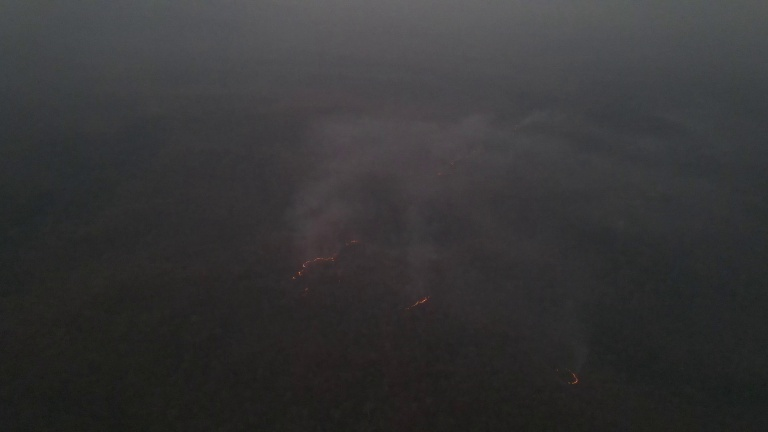fire: (292, 253, 339, 293), (402, 292, 437, 311), (567, 370, 587, 386), (343, 236, 363, 251)
smoke: (293, 113, 508, 284)
